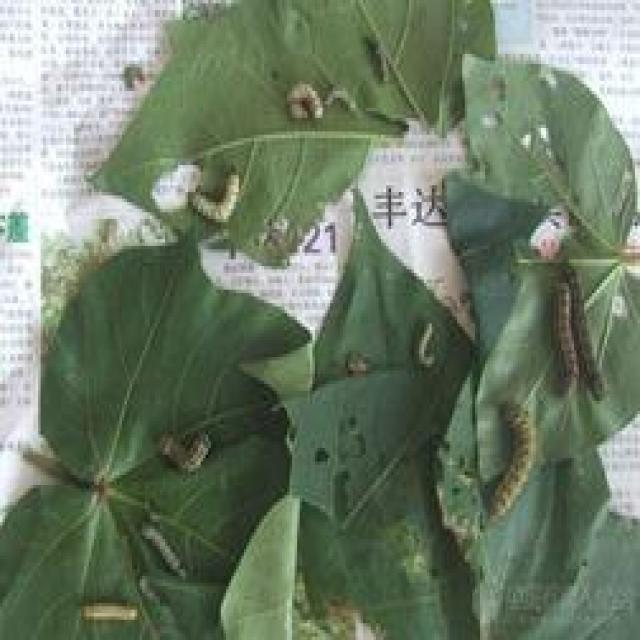BeetArmyWorm-Larva-: (476, 390, 547, 527), (562, 255, 616, 411), (545, 269, 582, 402), (137, 516, 194, 590), (151, 420, 218, 480), (188, 167, 245, 227), (281, 76, 328, 130), (74, 594, 146, 628), (410, 312, 444, 376), (368, 37, 396, 91), (318, 83, 366, 114)
